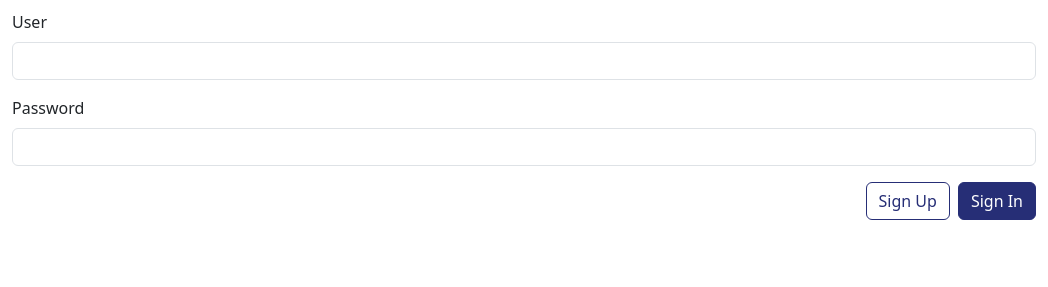
Test: AuthSignIn work correctly › Form validate as expect
The width and height of the screenshot is (1048, 287).
Click the button "Sign In": (997, 201) [958, 182, 1036, 220]
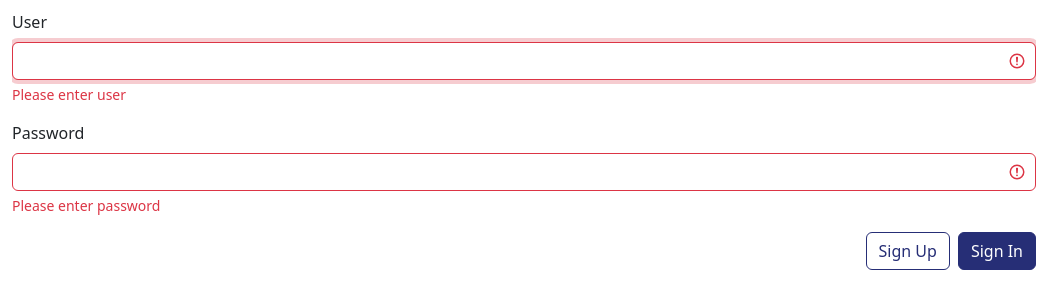
Expected: the text "Please enter user" is shown, [12, 85, 126, 104]
Expected: the text "Please enter password" is shown, [12, 196, 160, 215]
